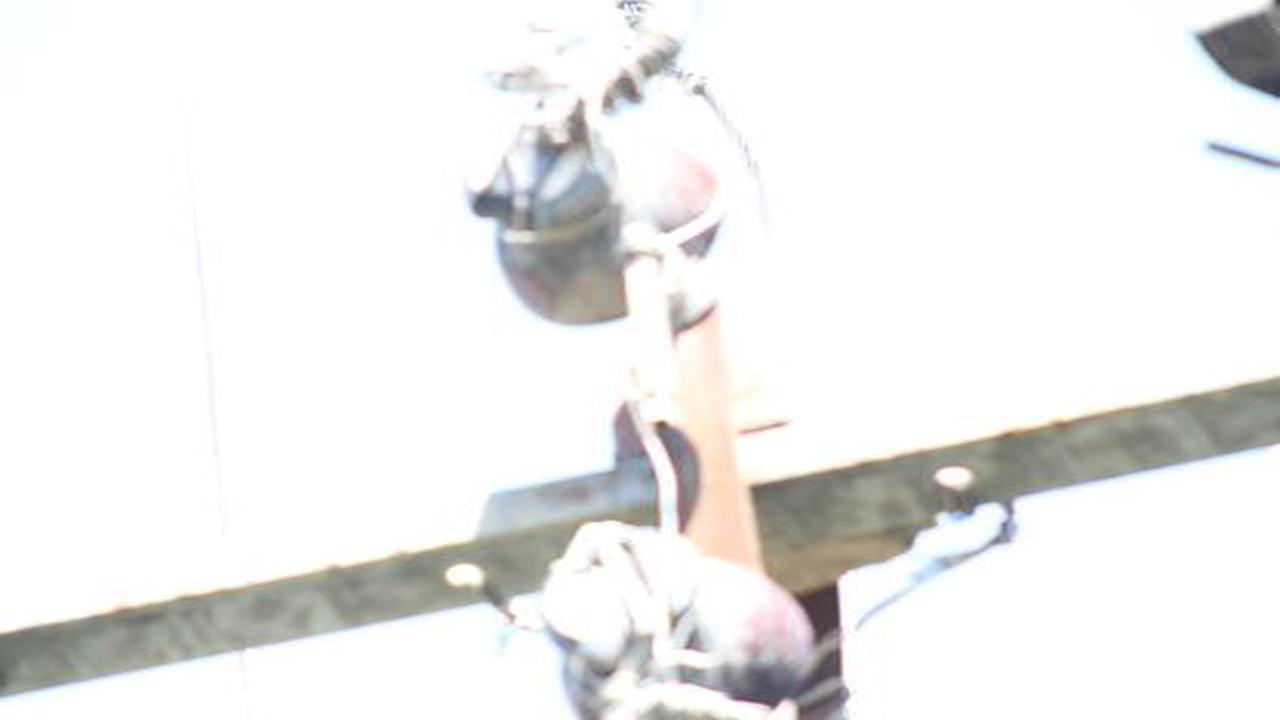insulator_pin: (453, 84, 729, 339), (539, 515, 820, 717)
